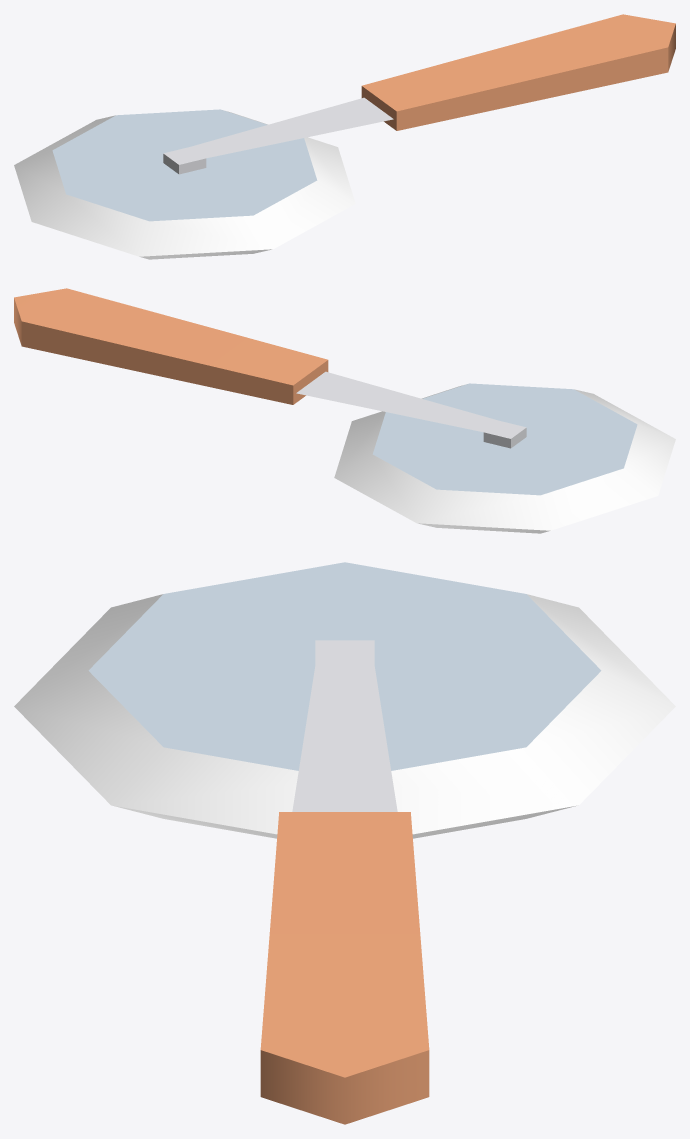
Rendered from pizzaCutter.obj.
The picture shows the model from 3 angles, top to bottom: view 1: azimuth 30°, elevation 25°; view 2: azimuth 150°, elevation 25°; view 3: azimuth 270°, elevation 25°; orthographic projection. The views are drawn at different scales.
Parts seen in each view (by area): view 1: pizzaCutter; view 2: pizzaCutter; view 3: pizzaCutter.
Part boxes in pixels (<box>): pizzaCutter: <box>14,14,675,259</box>; pizzaCutter: <box>14,288,675,533</box>; pizzaCutter: <box>14,562,675,1124</box>.
Size of the model in its own units: 0.536 by 0.0556 by 0.2549.
